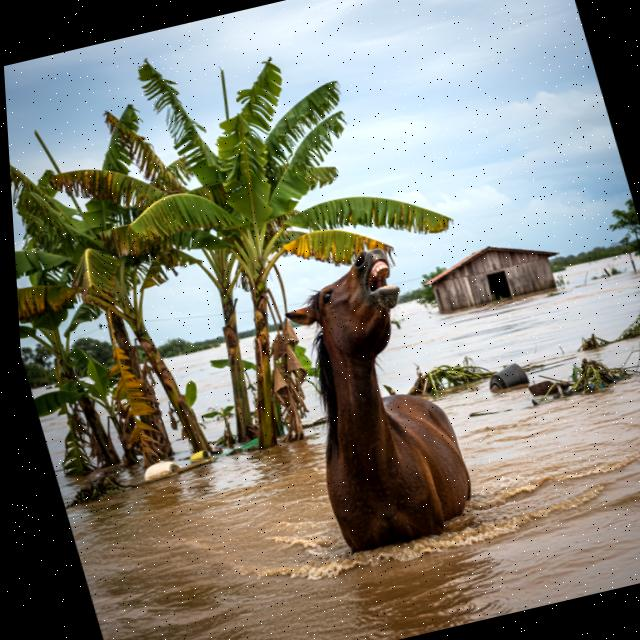horse: (253, 234, 503, 569)
